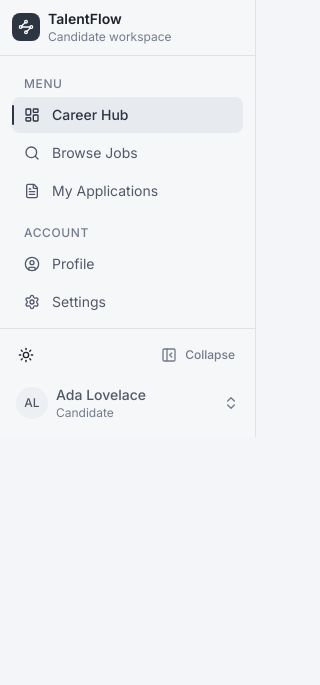
Scenario: Sidebar › exposes the account menu with a log-out action
Click the button with aria-label "account menu for ada lovelace".
click(128, 403)  # box [8, 377, 247, 429]
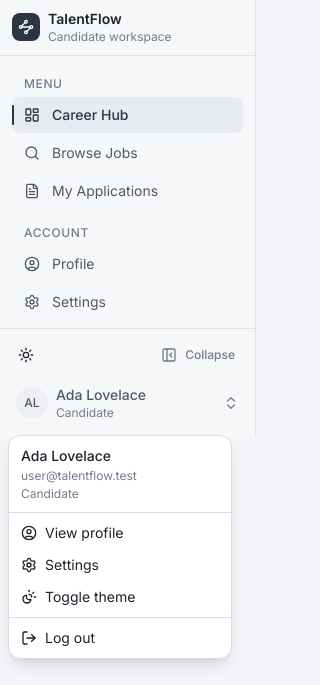
Result: the menu item "Log out" is shown at [21, 629, 95, 646]
